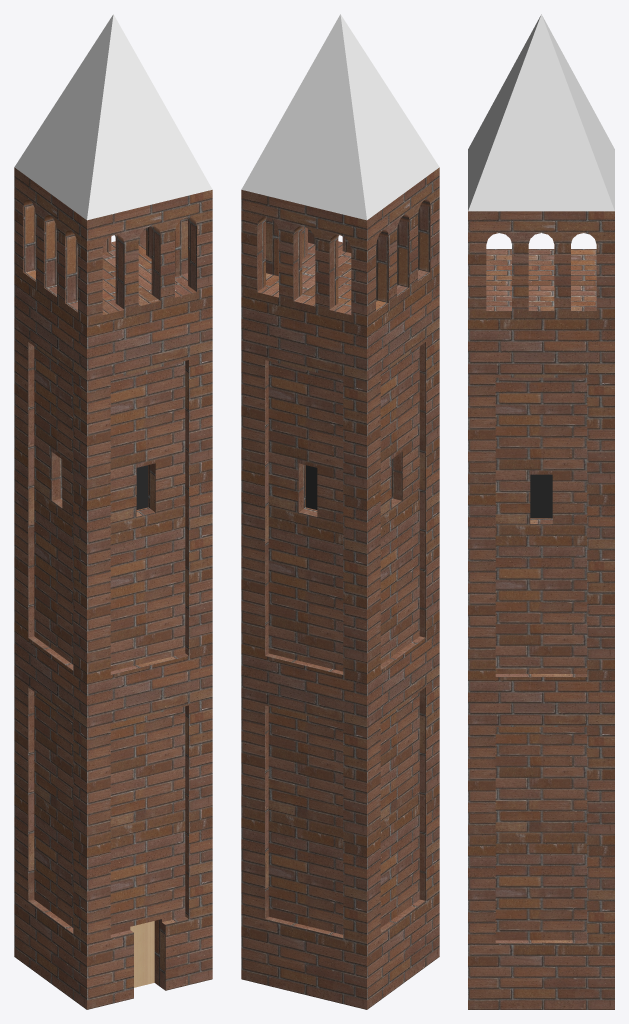
The model's file is Campanile_modello_3D.glb.
3 views of the same model, side by side, from view 1: azimuth 30°, elevation 25°; view 2: azimuth 150°, elevation 25°; view 3: azimuth 270°, elevation 25° (orthographic).
Parts seen in each view (by area): view 1: Solido1; view 2: Solido1; view 3: Solido1.
Boxes of the visible parts, x1,y1,x2,y2 form: Solido1: (14, 14, 212, 1009); Solido1: (241, 14, 439, 1009); Solido1: (468, 14, 614, 1009).
Bounding box in the file's own units: 0.4 × 2.9 × 0.4.
Materials: 4 (2 with a texture image).
